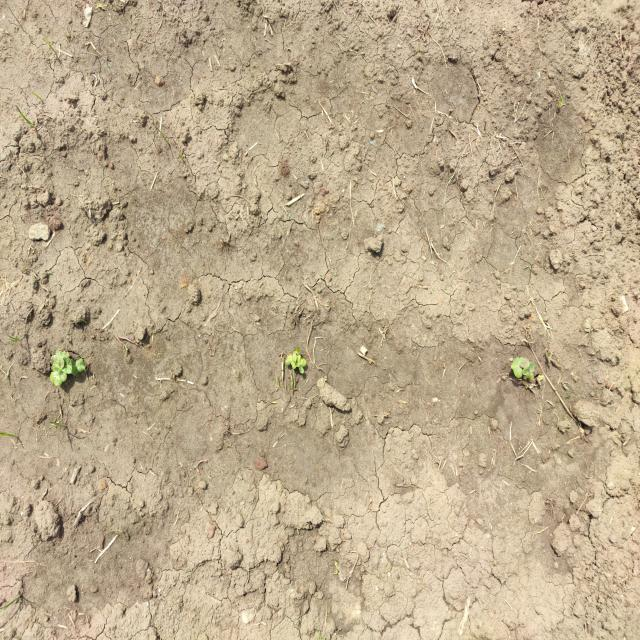seedling: (52, 364, 67, 382), (511, 361, 523, 378), (50, 355, 64, 369), (513, 357, 530, 368), (522, 362, 535, 376), (50, 372, 62, 386), (292, 361, 304, 374), (76, 359, 85, 372), (71, 360, 78, 376), (297, 355, 306, 367), (56, 349, 69, 357), (62, 364, 72, 374), (63, 357, 72, 367), (291, 351, 297, 366), (285, 354, 292, 366), (523, 373, 534, 380)
